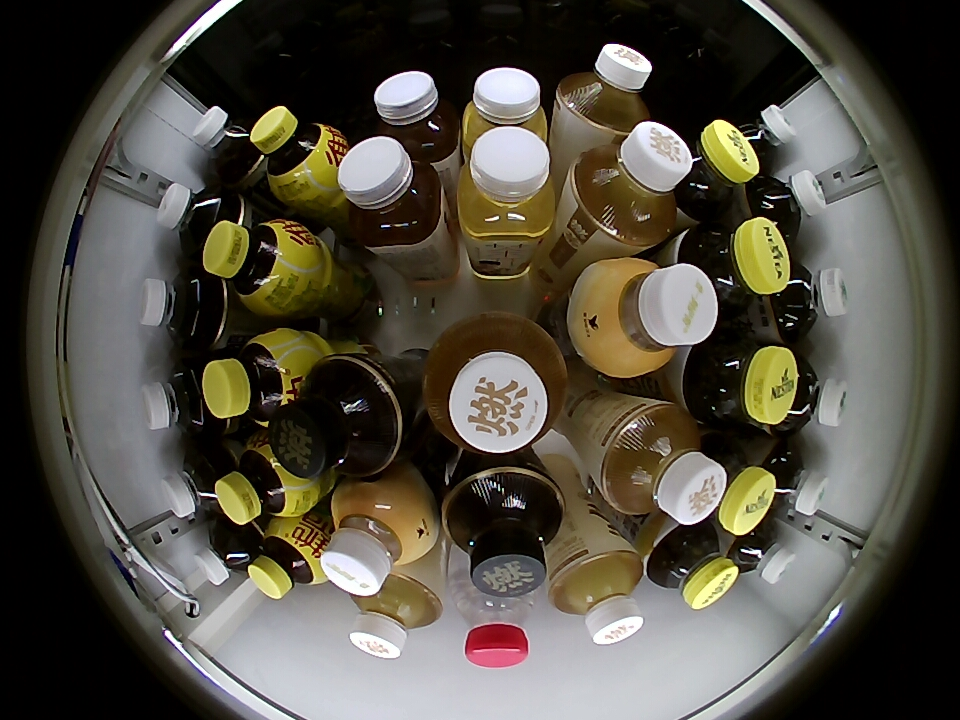asamu: (574, 257, 719, 376), (320, 481, 434, 598)
chacui: (682, 330, 798, 427), (677, 219, 790, 316), (674, 120, 757, 221), (646, 523, 738, 610), (699, 438, 774, 535)
chapai: (337, 137, 445, 251), (373, 71, 460, 163)
chapai2: (457, 127, 557, 245), (461, 67, 548, 151)
damaicha: (771, 262, 849, 341), (775, 354, 848, 434), (748, 170, 827, 242), (758, 442, 828, 517), (727, 519, 795, 585), (729, 103, 795, 171)
nongfushanquan: (455, 570, 539, 669)
rancha-1: (271, 349, 404, 481), (442, 465, 566, 596)
rancha-2: (422, 313, 569, 456), (596, 402, 724, 526), (569, 121, 691, 248), (548, 545, 645, 646), (555, 42, 653, 138), (350, 573, 443, 659)
weitaningmeng-bottle: (202, 217, 309, 312), (202, 330, 308, 422), (215, 431, 312, 525), (250, 105, 344, 202), (249, 518, 327, 600)
wulongcha: (138, 270, 212, 348), (157, 181, 233, 255), (141, 360, 208, 437), (192, 105, 259, 178), (161, 447, 226, 519), (194, 521, 256, 586)
